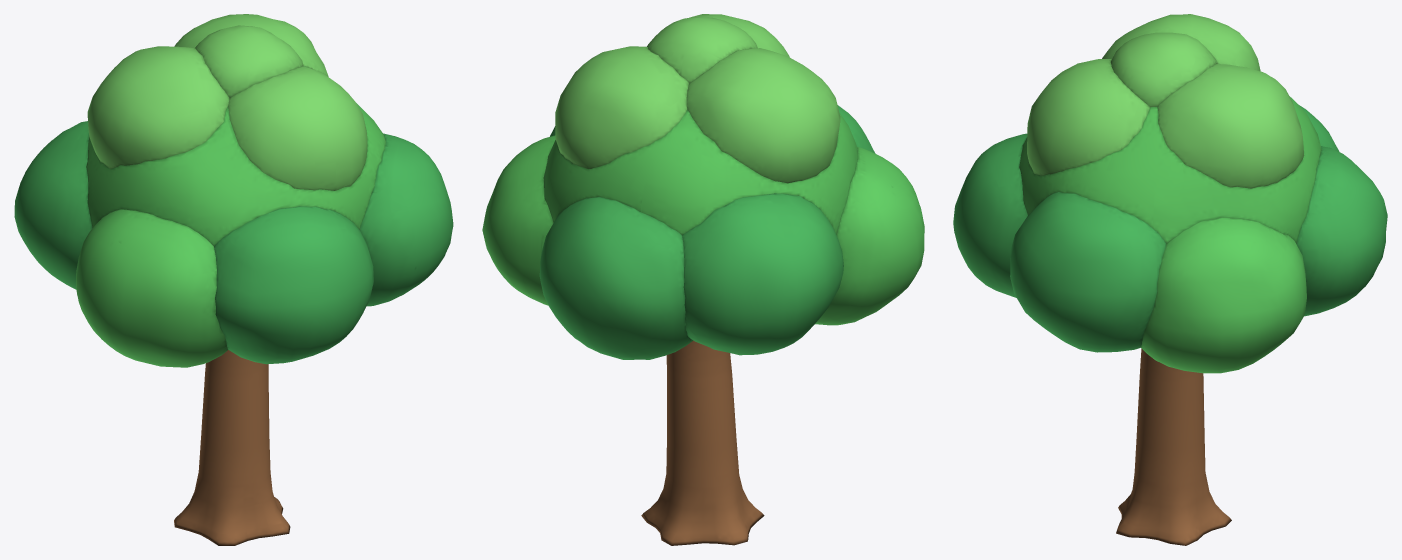
Rendered from tree_round.glb.
3 views of the same model, side by side, from view 1: azimuth 30°, elevation 25°; view 2: azimuth 150°, elevation 25°; view 3: azimuth 270°, elevation 25° (orthographic). The views are drawn at different scales.
Parts seen in each view (by area): view 1: tree_round; view 2: tree_round; view 3: tree_round.
Part boxes in pixels (bbox=[...]): tree_round: bbox=[14, 14, 453, 545]; tree_round: bbox=[482, 14, 924, 545]; tree_round: bbox=[953, 14, 1387, 545].
Size of the model in its own units: 3.12 by 4.04 by 3.27.
4 materials, 4 textured.
